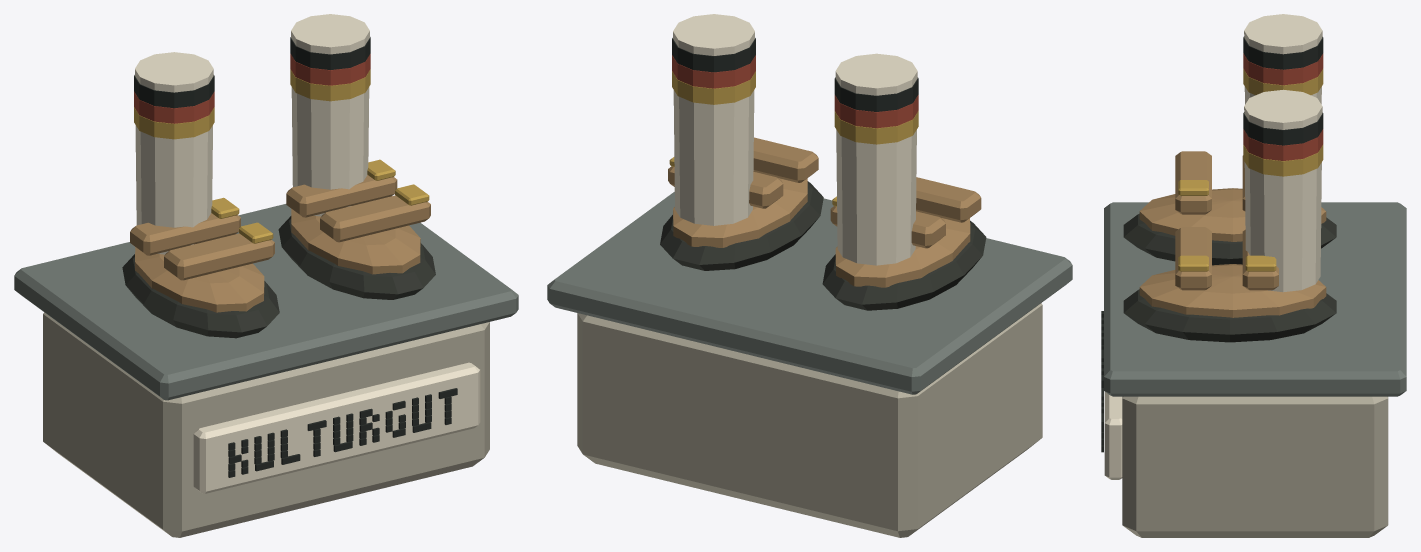
File: socks-sandals.glb
3 renders of one model, left to right at view 1: azimuth 30°, elevation 25°; view 2: azimuth 150°, elevation 25°; view 3: azimuth 270°, elevation 25°, orthographic. The views are drawn at different scales.
Parts seen in each view (by area): view 1: socks-sandals; view 2: socks-sandals; view 3: socks-sandals.
Boxes of the visible parts, <box> form: socks-sandals: <box>14,14,518,537</box>; socks-sandals: <box>547,14,1072,537</box>; socks-sandals: <box>1101,14,1406,537</box>.
Bounding box in the file's own units: 1.47 × 1.56 × 1.09.
